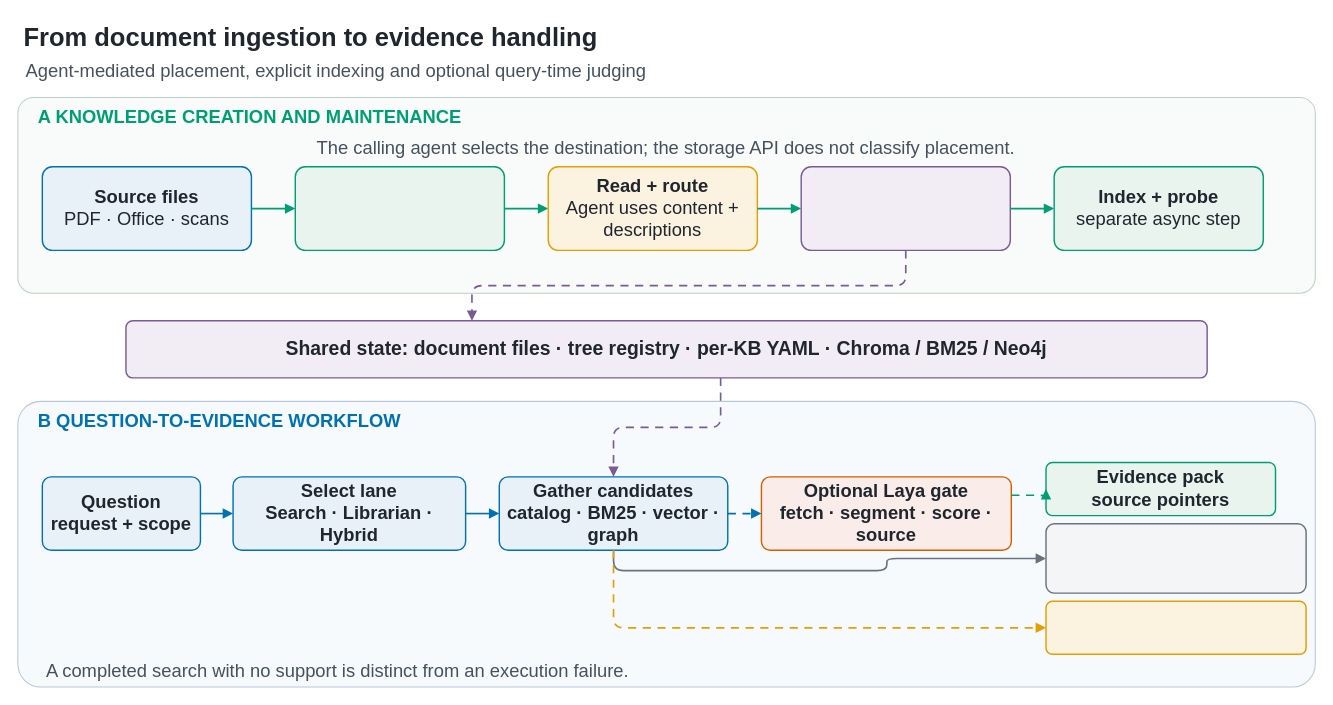
Image size: 1333x705. Some labels were removed from this diagram. The shapes that lost their labels are listed below. From the top down, each one's centre as x and y in pixels, then its label:
pixel 399 208: Parse + quality OCR · structure · checks
pixel 905 208: Save state Markdown · registry · YAML
pixel 1175 558: Completed search no support → scoped not-found
pixel 1175 627: Execution failure timeout · fetch · tool
